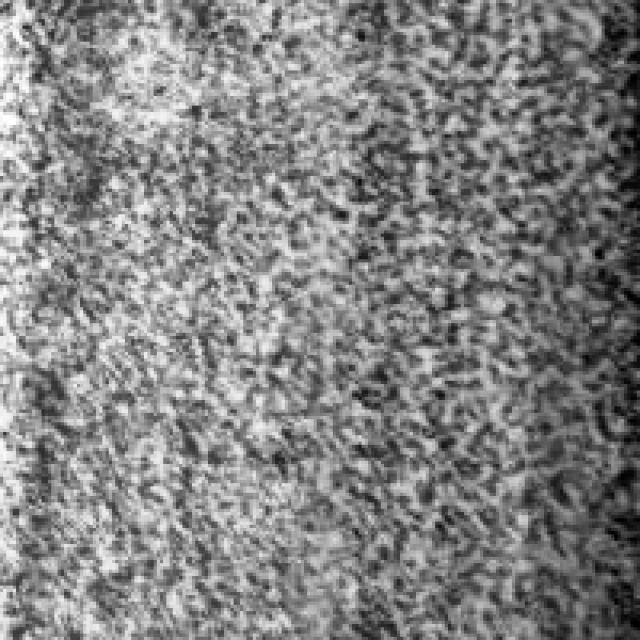Rolled_in_Scale: (252, 6, 628, 628)
